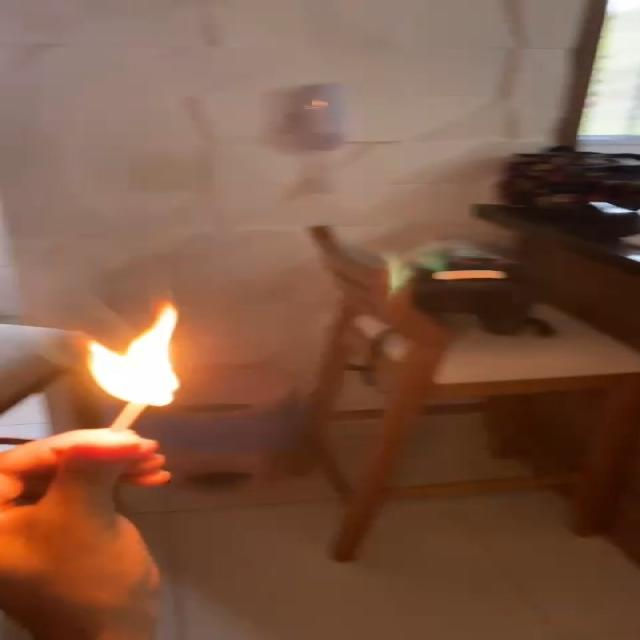fogo-ypXI: (79, 295, 185, 410)
